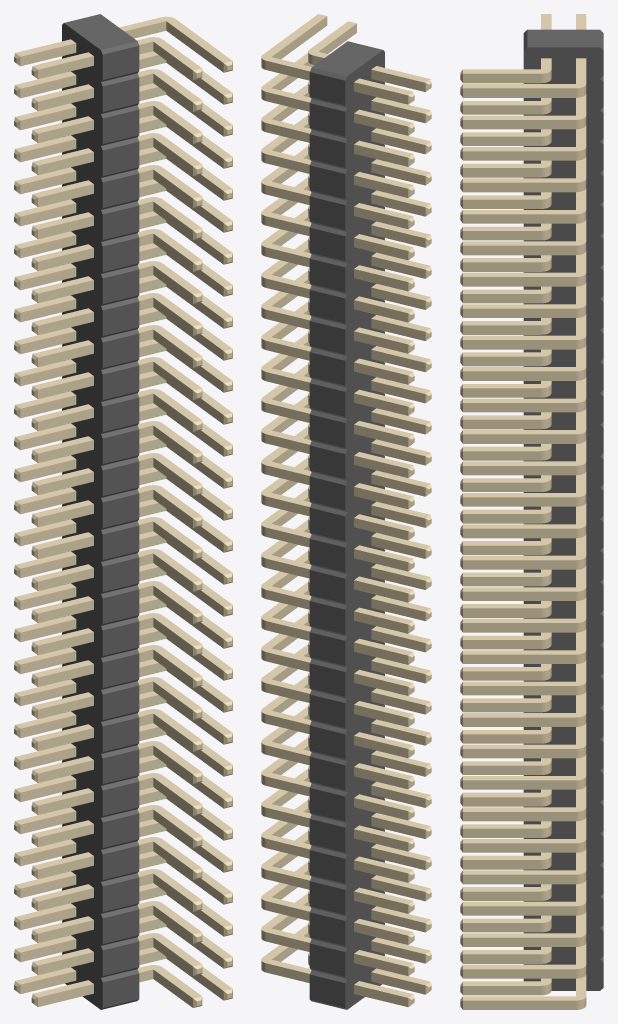
Rendered from PinHeader_2x30_P1.00mm_Horizontal.glb.
3 renders of one model, left to right at view 1: azimuth 30°, elevation 25°; view 2: azimuth 150°, elevation 25°; view 3: azimuth 270°, elevation 25°, orthographic. The views are drawn at different scales.
Visible parts, largest first — view 1: Shape_IndexedFaceSet.004, Shape_IndexedFaceSet.001, Shape_IndexedFaceSet.088, Shape_IndexedFaceSet.106, Shape_IndexedFaceSet.112, Shape_IndexedFaceSet.130, Shape_IndexedFaceSet.148, Shape_IndexedFaceSet.154, Shape_IndexedFaceSet.166, Shape_IndexedFaceSet.172, Shape_IndexedFaceSet.178, Shape_IndexedFaceSet.046 (+82 smaller); view 2: Shape_IndexedFaceSet.004, Shape_IndexedFaceSet.001, Shape_IndexedFaceSet.169, Shape_IndexedFaceSet.019, Shape_IndexedFaceSet.055, Shape_IndexedFaceSet.079, Shape_IndexedFaceSet.115, Shape_IndexedFaceSet.163, Shape_IndexedFaceSet.175, Shape_IndexedFaceSet.025, Shape_IndexedFaceSet.031, Shape_IndexedFaceSet.061 (+142 smaller); view 3: Shape_IndexedFaceSet.003, Shape_IndexedFaceSet.001, Shape_IndexedFaceSet.736, Shape_IndexedFaceSet.770, Shape_IndexedFaceSet.865, Shape_IndexedFaceSet.925, Shape_IndexedFaceSet.685, Shape_IndexedFaceSet.691, Shape_IndexedFaceSet.695, Shape_IndexedFaceSet.700, Shape_IndexedFaceSet.706, Shape_IndexedFaceSet.710 (+110 smaller).
Part boxes in pixels (box(x1,y1,x2,y2)): Shape_IndexedFaceSet.004: box(62, 23, 102, 1009); Shape_IndexedFaceSet.001: box(64, 14, 137, 49); Shape_IndexedFaceSet.088: box(102, 493, 139, 527); Shape_IndexedFaceSet.106: box(102, 589, 139, 623); Shape_IndexedFaceSet.112: box(102, 621, 139, 655); Shape_IndexedFaceSet.130: box(102, 717, 139, 751); Shape_IndexedFaceSet.148: box(102, 813, 139, 847); Shape_IndexedFaceSet.154: box(102, 845, 139, 879); Shape_IndexedFaceSet.166: box(102, 909, 139, 943); Shape_IndexedFaceSet.172: box(102, 941, 139, 975); Shape_IndexedFaceSet.178: box(102, 973, 139, 1007); Shape_IndexedFaceSet.046: box(102, 269, 139, 303); Shape_IndexedFaceSet.004: box(345, 50, 384, 1009); Shape_IndexedFaceSet.001: box(312, 41, 382, 75); Shape_IndexedFaceSet.169: box(309, 912, 345, 945); Shape_IndexedFaceSet.019: box(309, 134, 345, 167); Shape_IndexedFaceSet.055: box(309, 321, 345, 354); Shape_IndexedFaceSet.079: box(309, 445, 345, 478); Shape_IndexedFaceSet.115: box(309, 632, 345, 665); Shape_IndexedFaceSet.163: box(309, 881, 345, 914); Shape_IndexedFaceSet.175: box(309, 943, 345, 976); Shape_IndexedFaceSet.025: box(309, 165, 345, 198); Shape_IndexedFaceSet.031: box(309, 196, 345, 229); Shape_IndexedFaceSet.061: box(309, 352, 345, 385); Shape_IndexedFaceSet.003: box(523, 47, 603, 990); Shape_IndexedFaceSet.001: box(527, 29, 599, 47); Shape_IndexedFaceSet.736: box(463, 528, 575, 538); Shape_IndexedFaceSet.770: box(463, 245, 575, 255); Shape_IndexedFaceSet.865: box(463, 874, 575, 884); Shape_IndexedFaceSet.925: box(463, 182, 575, 192); Shape_IndexedFaceSet.685: box(463, 591, 575, 600); Shape_IndexedFaceSet.691: box(463, 623, 575, 632); Shape_IndexedFaceSet.695: box(463, 749, 575, 758); Shape_IndexedFaceSet.700: box(463, 717, 575, 726); Shape_IndexedFaceSet.706: box(463, 654, 575, 663); Shape_IndexedFaceSet.710: box(463, 686, 575, 695).
Bounding box in the file's own units: 2.03 × 11.81 × 1.62.
